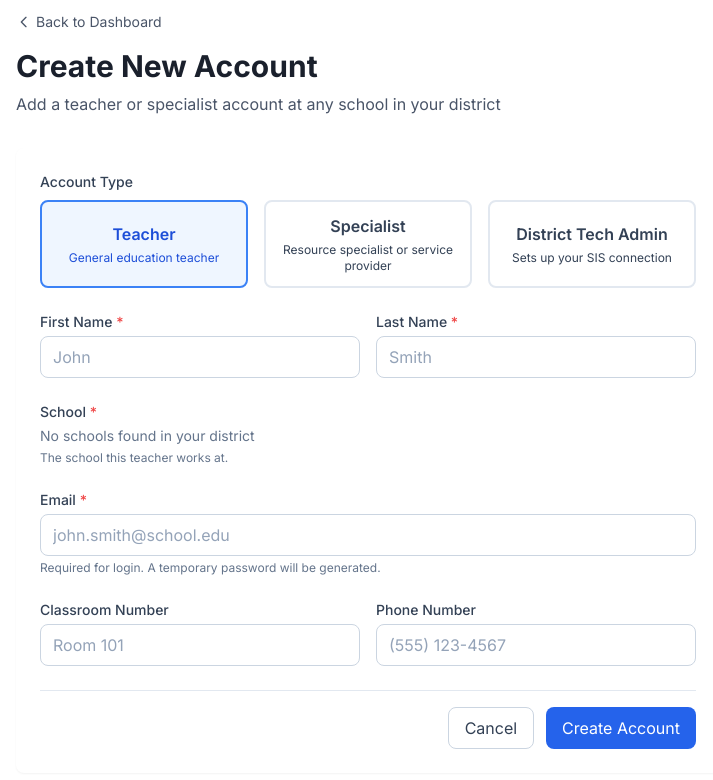
it: Admin Create New Account page › district admin › asks for a school instead of submitting when none is picked
Expected: the text "No schools found in your district" is shown, x1=40 y1=427 x2=255 y2=444
Type "Jane" into the field labelled "First Name *".
click(200, 357); type("Jane")  # box x1=40 y1=336 x2=360 y2=378
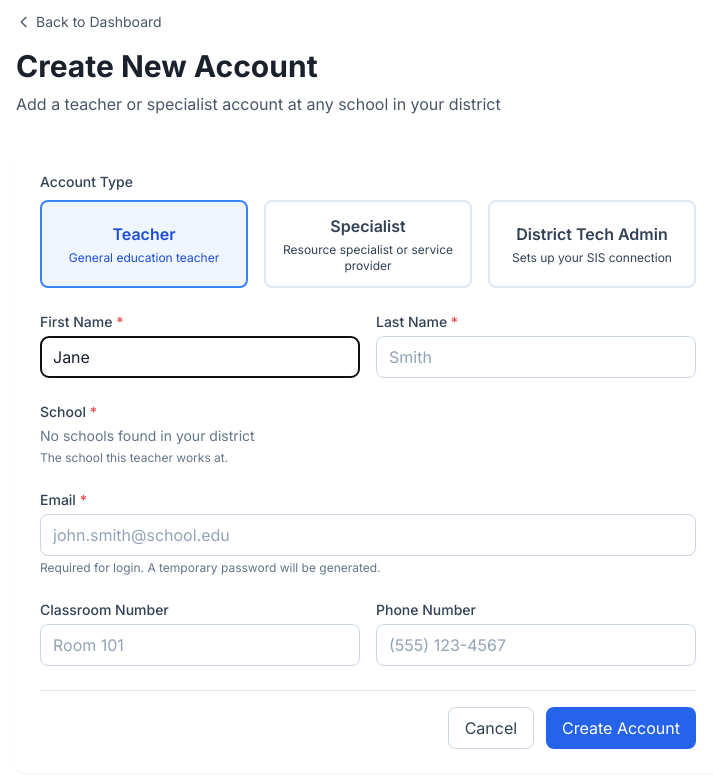
Type "Doe" into the field labelled "Last Name *".
click(536, 357); type("Doe")  # box x1=376 y1=336 x2=696 y2=378
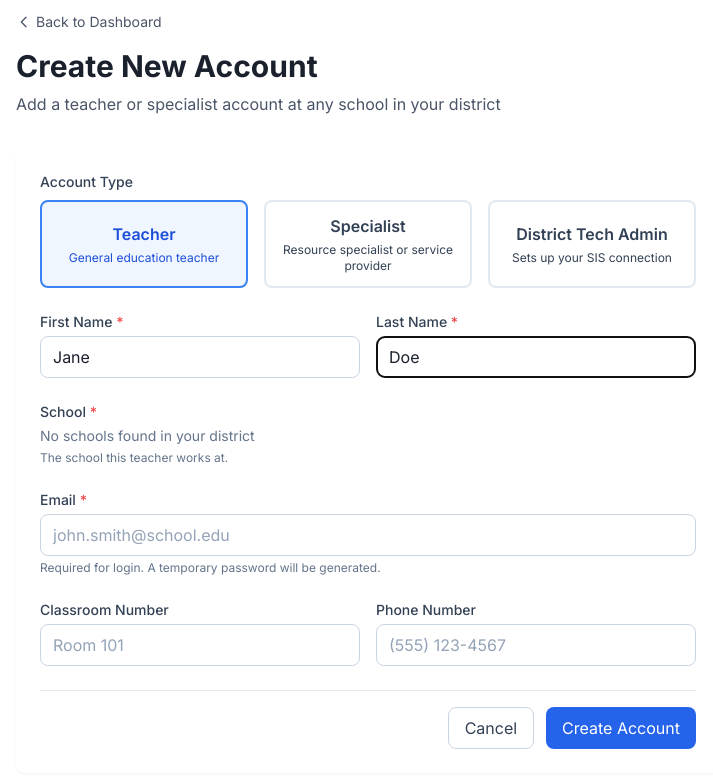
Type "jane.doe@school.edu" into the field labelled "Email *".
click(368, 535); type("jane.doe@school.edu")  # box x1=40 y1=514 x2=696 y2=556
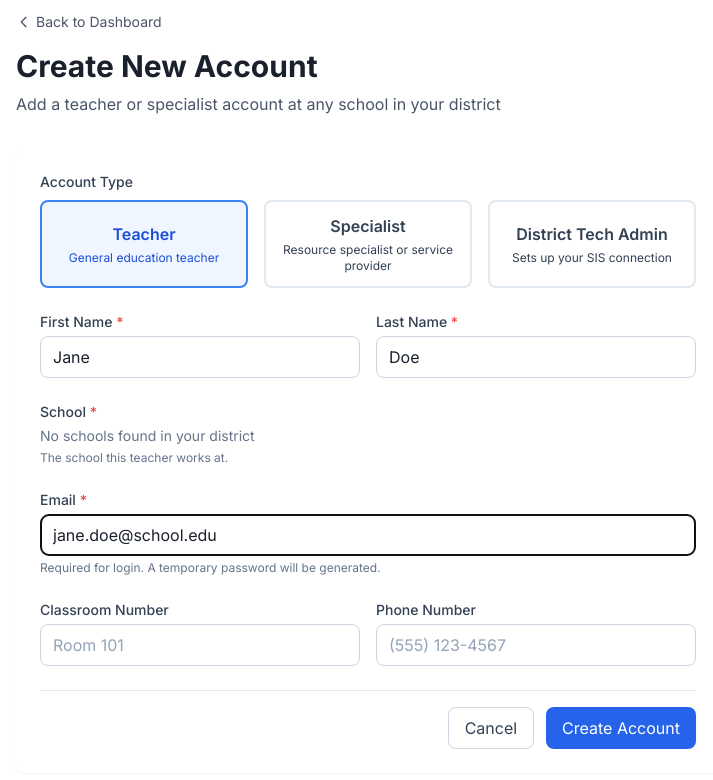
Click the button "Create Account".
click(621, 728)  # box x1=546 y1=707 x2=696 y2=749
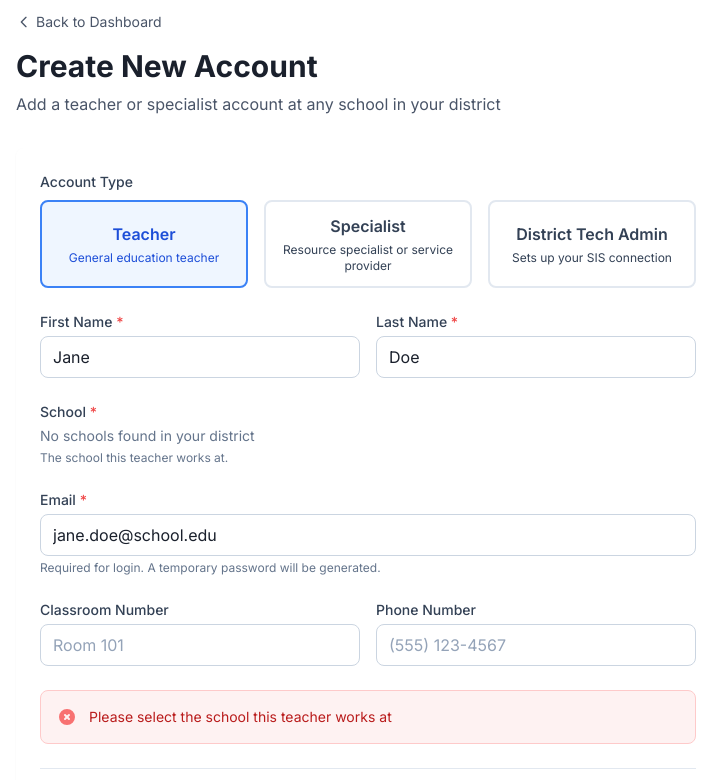
Now the text "Please select the school this teacher works at" is shown, box x1=89 y1=707 x2=392 y2=727
